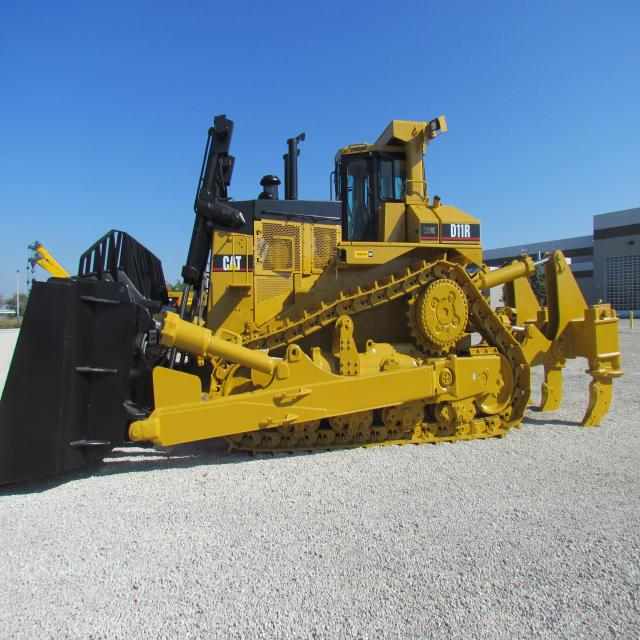Bulldozer: (10, 71, 621, 515)
